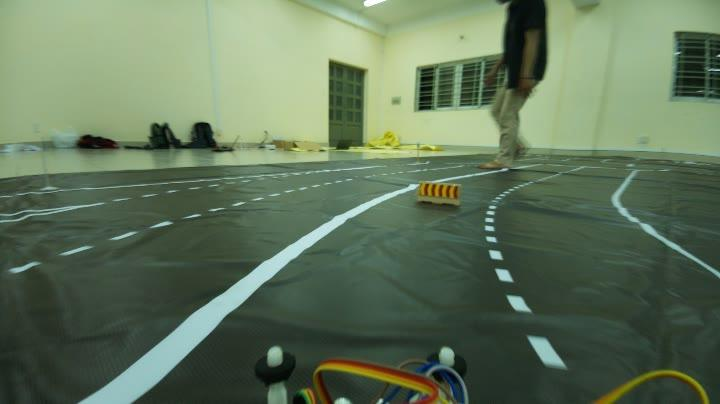roadblock: (411, 175, 467, 210)
